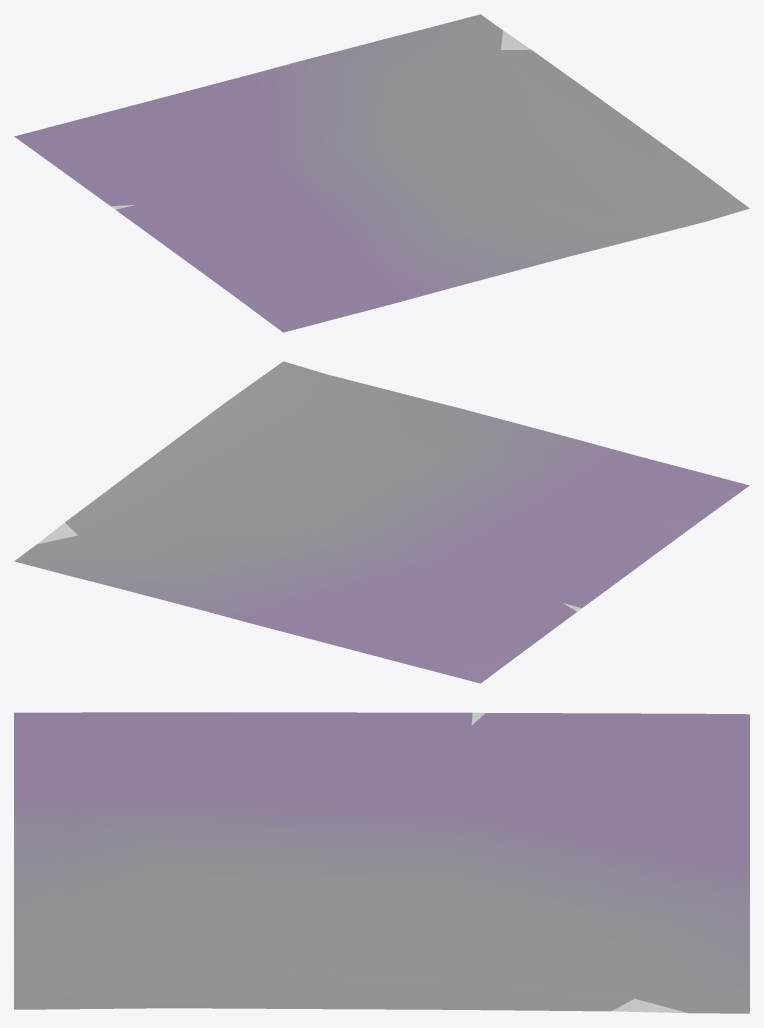
3 views of the same model, one above another, from view 1: azimuth 30°, elevation 25°; view 2: azimuth 150°, elevation 25°; view 3: azimuth 270°, elevation 25° (orthographic). The views are drawn at different scales.
Visible parts, largest first — view 1: G:\FFXIV-MapTools\exports\m5f1\bg\ex4\02_mid_m5\fld\m5f1\bgp; view 2: G:\FFXIV-MapTools\exports\m5f1\bg\ex4\02_mid_m5\fld\m5f1\bgp; view 3: G:\FFXIV-MapTools\exports\m5f1\bg\ex4\02_mid_m5\fld\m5f1\bgp (×2).
Boxes of the visible parts, box(x1,y1,x2,y2) form: G:\FFXIV-MapTools\exports\m5f1\bg\ex4\02_mid_m5\fld\m5f1\bgp: box(14, 14, 749, 332); G:\FFXIV-MapTools\exports\m5f1\bg\ex4\02_mid_m5\fld\m5f1\bgp: box(14, 361, 749, 683); G:\FFXIV-MapTools\exports\m5f1\bg\ex4\02_mid_m5\fld\m5f1\bgp (×2): box(14, 712, 749, 1013).
Size of the model in its own units: 128 by 3.26 by 128.
